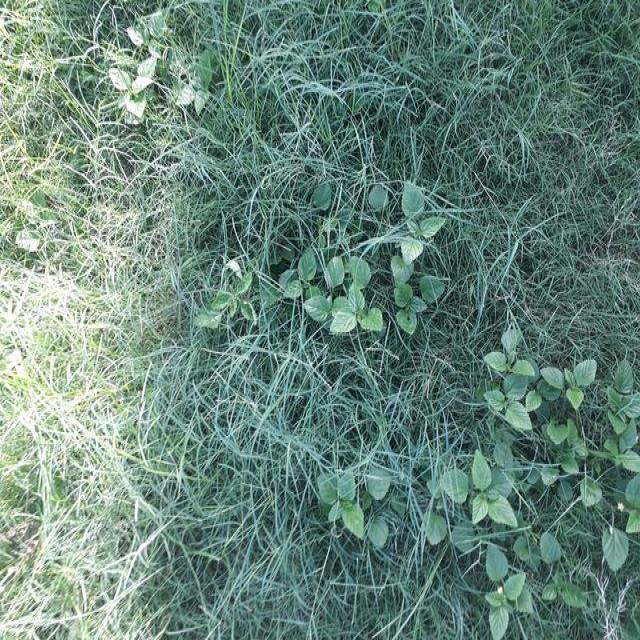weed: (264, 174, 433, 339), (478, 351, 640, 520), (431, 465, 568, 635), (100, 13, 222, 128), (315, 451, 391, 550)
